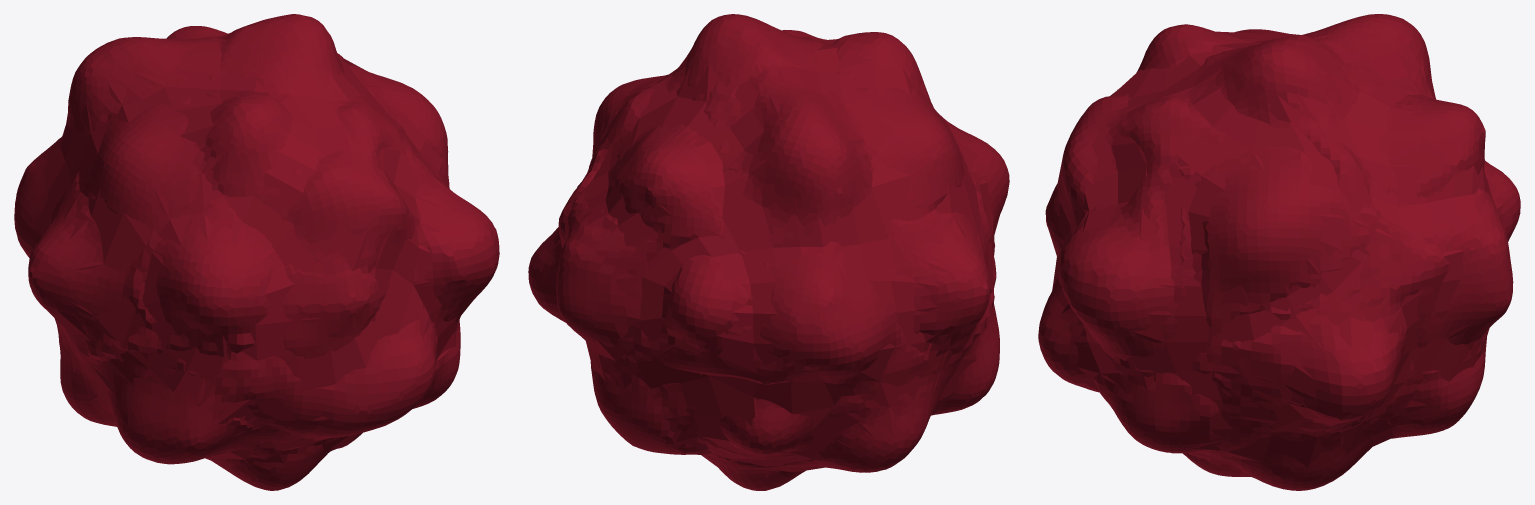
The model's file is LoveNuts_Cancer_01.fbx.
3 views of the same model, side by side, from view 1: azimuth 30°, elevation 25°; view 2: azimuth 150°, elevation 25°; view 3: azimuth 270°, elevation 25° (orthographic). The views are drawn at different scales.
Parts seen in each view (by area): view 1: Sphere, Retopo_Sphere; view 2: Sphere, Retopo_Sphere; view 3: Sphere, Retopo_Sphere.
Part boxes in pixels (left/top/right/bottom): Sphere: left=14, top=14, right=499, bottom=490; Retopo_Sphere: left=34, top=24, right=472, bottom=465; Sphere: left=528, top=14, right=1009, bottom=490; Retopo_Sphere: left=535, top=34, right=1000, bottom=478; Sphere: left=1038, top=14, right=1520, bottom=490; Retopo_Sphere: left=1050, top=28, right=1508, bottom=476.
Size of the model in its own units: 234 by 232 by 227.
